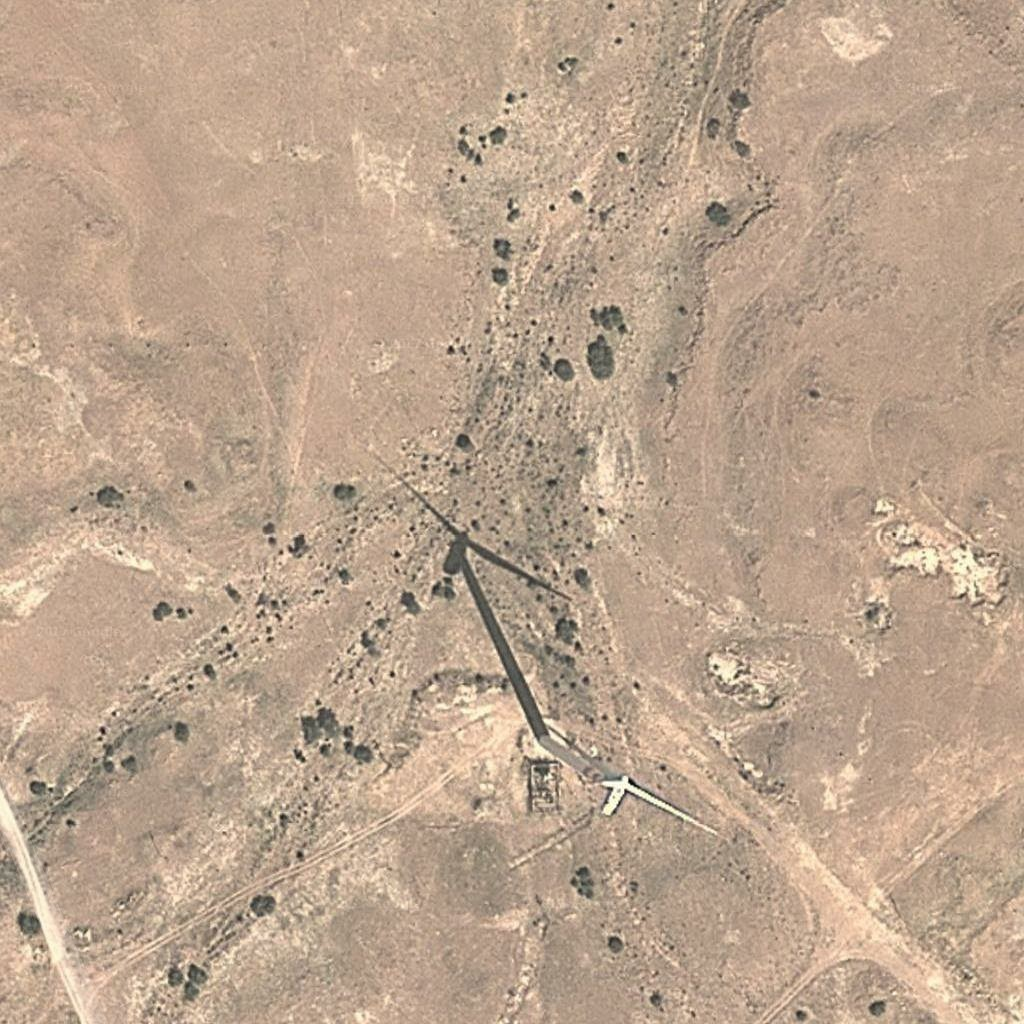Windmill: (369, 456, 537, 631)
